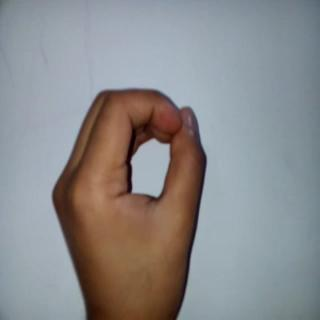O: (46, 71, 214, 320)
